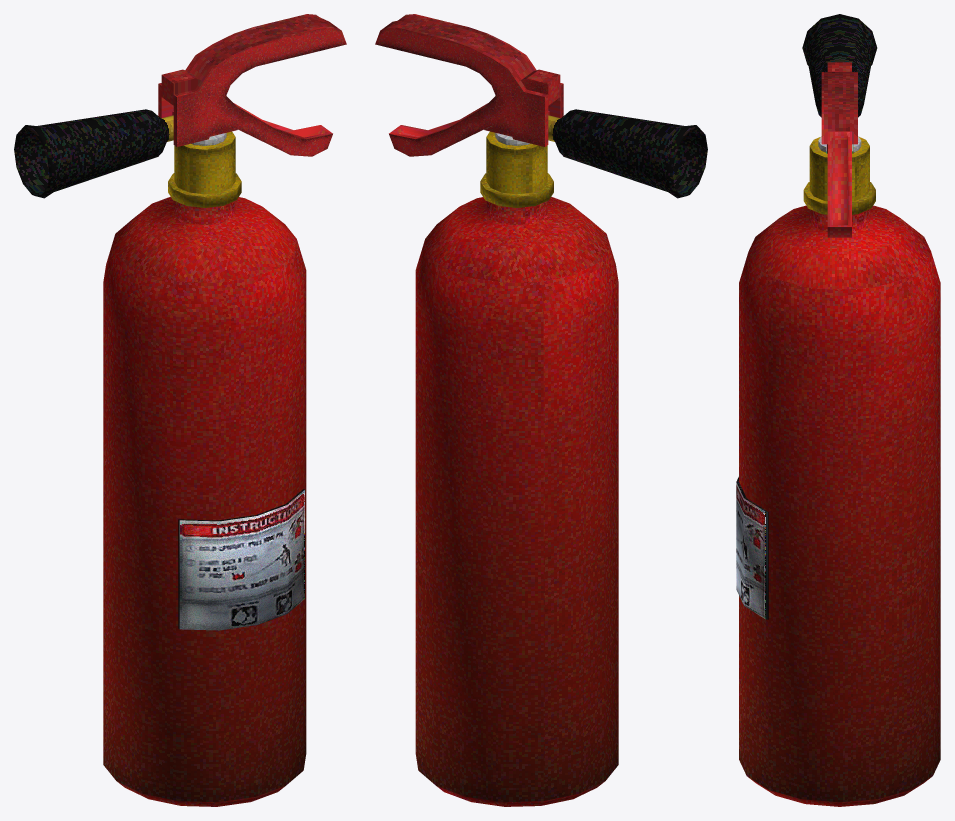
File: fire_extinguisher.glb
The picture shows the model from 3 angles, left to right: view 1: azimuth 30°, elevation 25°; view 2: azimuth 150°, elevation 25°; view 3: azimuth 270°, elevation 25°; orthographic projection.
Visible parts, largest first — view 1: FireExtinguisher.001; view 2: FireExtinguisher.001; view 3: FireExtinguisher.001.
Part boxes in pixels (x1,y1,x2,y2): FireExtinguisher.001: (14, 14, 346, 806); FireExtinguisher.001: (375, 14, 707, 806); FireExtinguisher.001: (736, 14, 940, 806).
Size of the model in its own units: 0.2765 by 0.6224 by 0.1623.
Materials: 1 (1 with a texture image).
